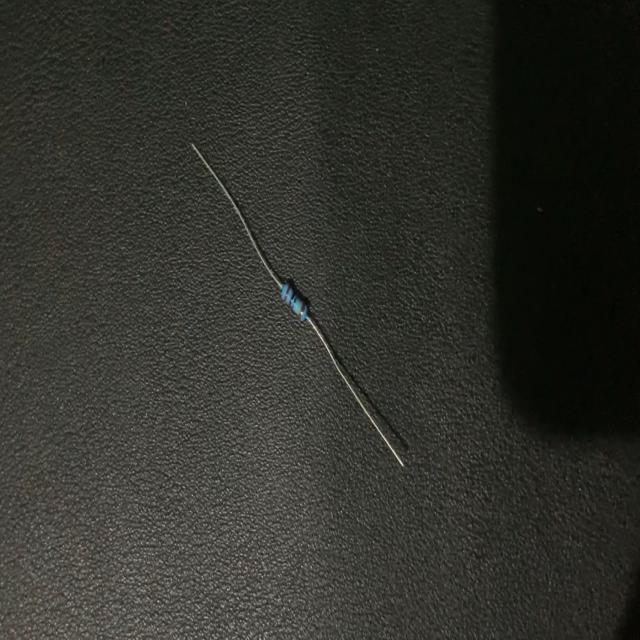resistor: (192, 142, 406, 468)
